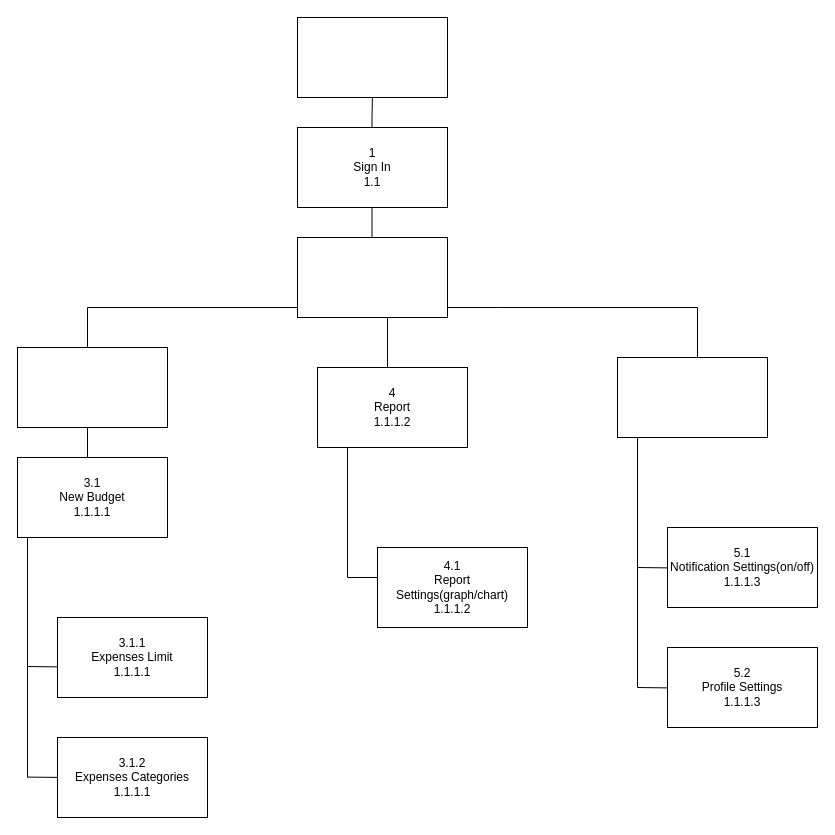
Some shapes in this 835 by 835 pixel diagram are drawn without their labels. Here are the shapes that lost their labels. From the top down, the box of each, then its label:
(296, 16, 448, 98): 0 Registration 1
(296, 236, 448, 318): 2 Main Menu 1.1.1
(16, 346, 168, 428): 3 Dashboard 1.1.1.1
(616, 356, 768, 438): 5 Edit Profile 1.1.1.3
